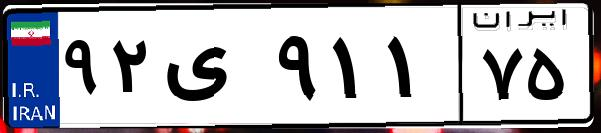1: (385, 28, 445, 110), (330, 28, 385, 110)
2: (110, 28, 158, 98)
5: (525, 38, 570, 115)
7: (475, 38, 525, 113)
9: (270, 28, 330, 110), (57, 26, 110, 100)
ی: (158, 20, 270, 120)
